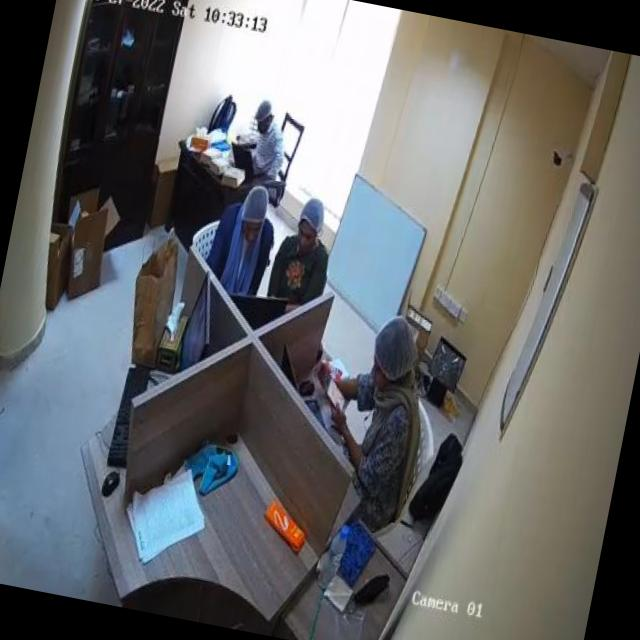hairnet: (371, 315, 422, 375), (240, 182, 270, 225), (297, 196, 327, 233), (255, 98, 272, 123)
